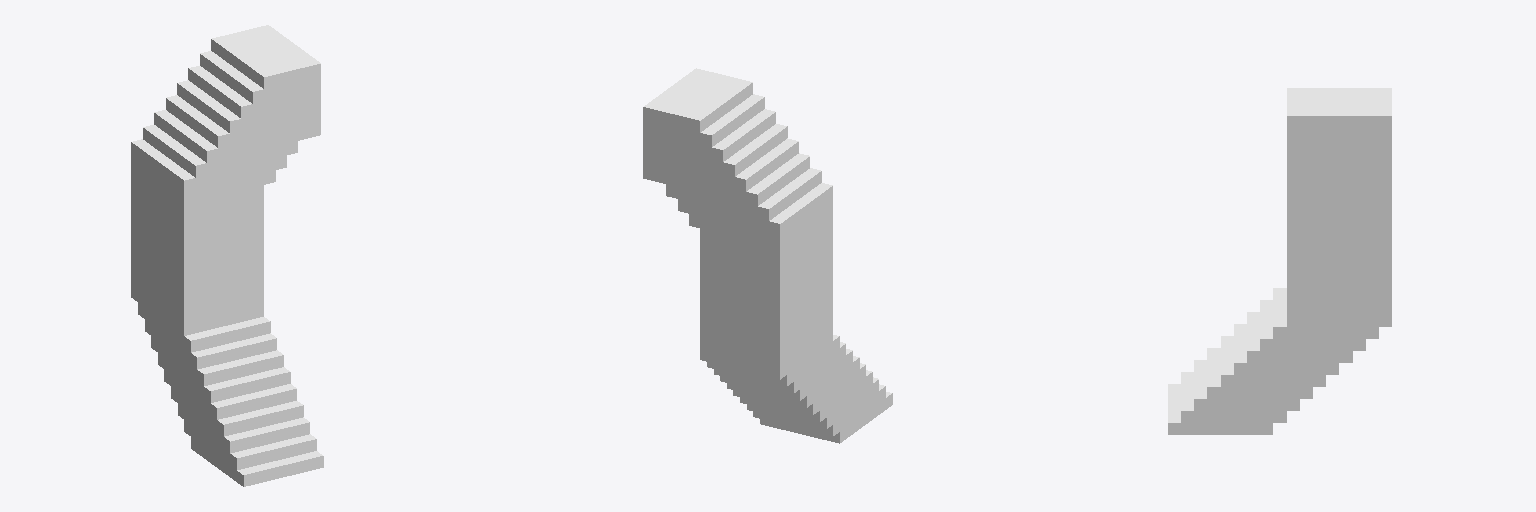
File: skelet-1.obj
The picture shows the model from 3 angles: view 1: azimuth 30°, elevation 25°; view 2: azimuth 150°, elevation 25°; view 3: azimuth 270°, elevation 25°; orthographic projection.
Parts seen in each view (by area): view 1: object 1; view 2: object 1; view 3: object 1.
Part boxes in pixels (x1,y1,x2,y2): object 1: (131,25,323,486); object 1: (643,68,892,443); object 1: (1168,88,1391,434).
Size of the model in its own units: 1.2 by 2.9 by 1.7.